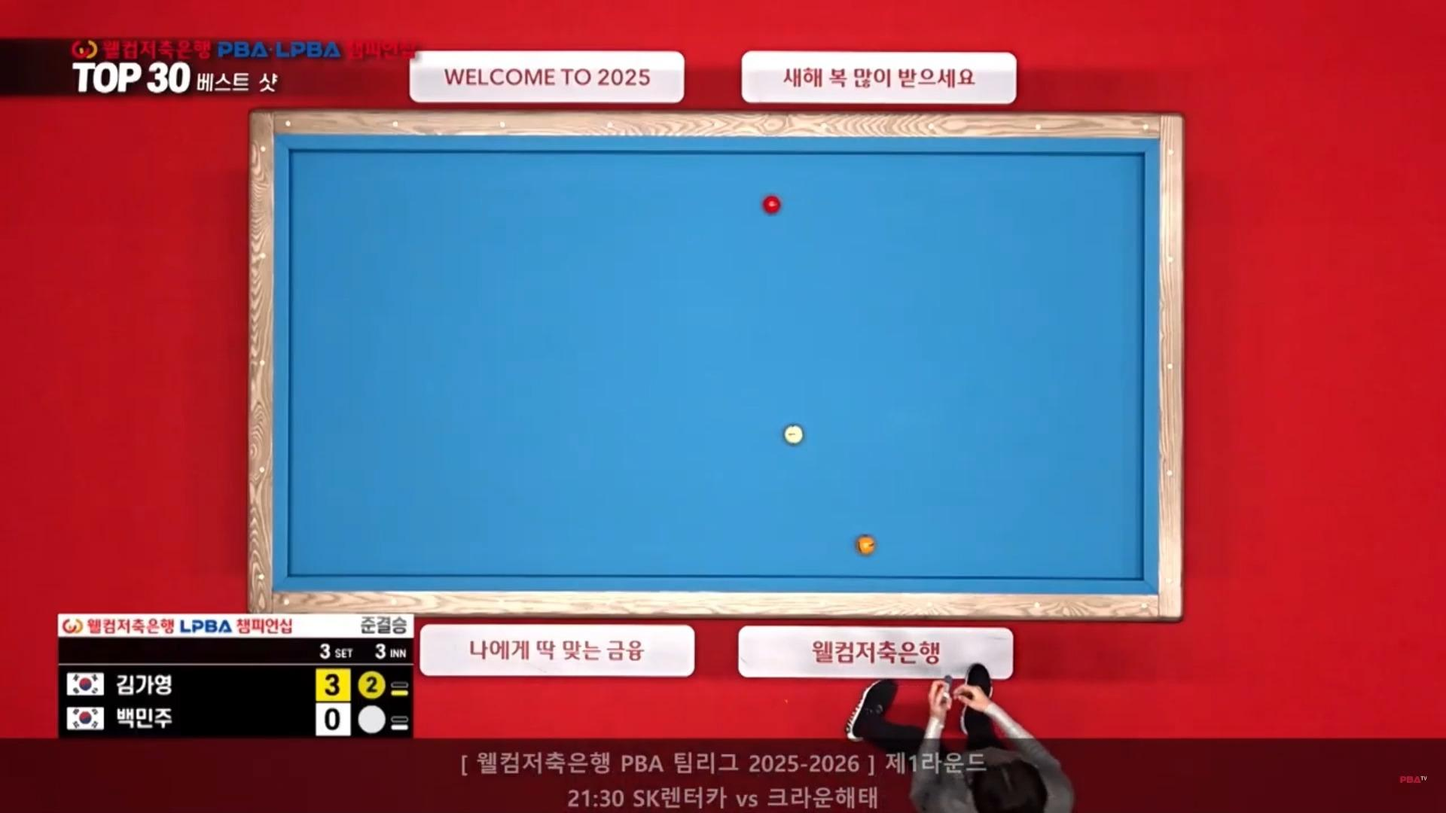Red: (764, 198, 786, 216)
White: (784, 426, 808, 446)
Yellow: (857, 536, 880, 554)
